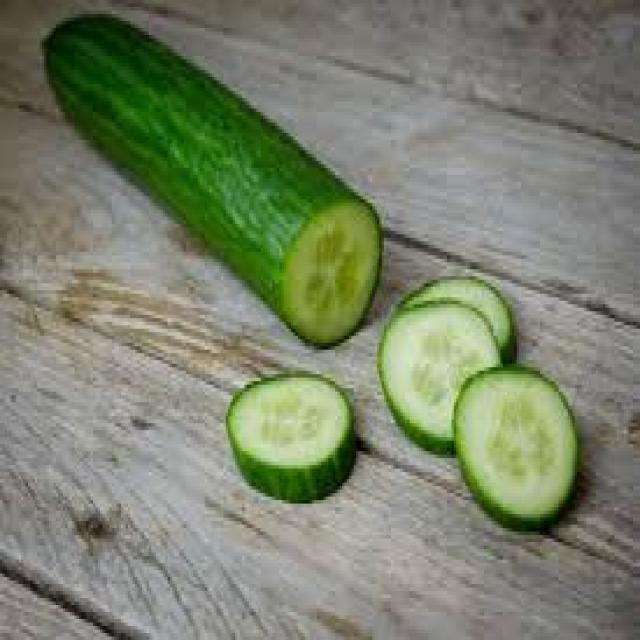cucumber: (40, 11, 384, 353), (384, 276, 519, 451), (456, 367, 584, 539), (221, 367, 361, 504)
